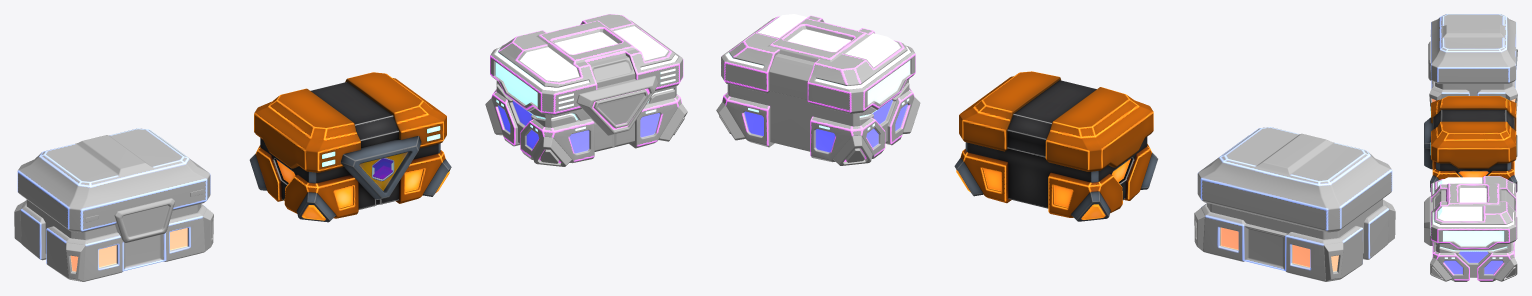
Rendered from lootbox.gltf.
3 views of the same model, side by side, from view 1: azimuth 30°, elevation 25°; view 2: azimuth 150°, elevation 25°; view 3: azimuth 270°, elevation 25° (orthographic). The views are drawn at different scales.
Visible parts, largest first — view 1: LootBox_02, LootBox_03, LootBox_01; view 2: LootBox_02, LootBox_03, LootBox_01; view 3: LootBox_03, LootBox_01, LootBox_02.
Boxes of the visible parts, <box> form: LootBox_02: <box>14,128,213,281</box>; LootBox_03: <box>485,14,687,166</box>; LootBox_01: <box>249,72,451,222</box>; LootBox_02: <box>1194,127,1395,281</box>; LootBox_03: <box>716,14,920,165</box>; LootBox_01: <box>954,71,1157,221</box>; LootBox_03: <box>1424,176,1517,281</box>; LootBox_01: <box>1424,96,1517,192</box>; LootBox_02: <box>1428,14,1517,113</box>.
Bounding box in the file's own units: 1.15 × 0.1731 × 0.2164.
